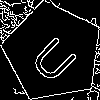U: (28, 27, 87, 86)
